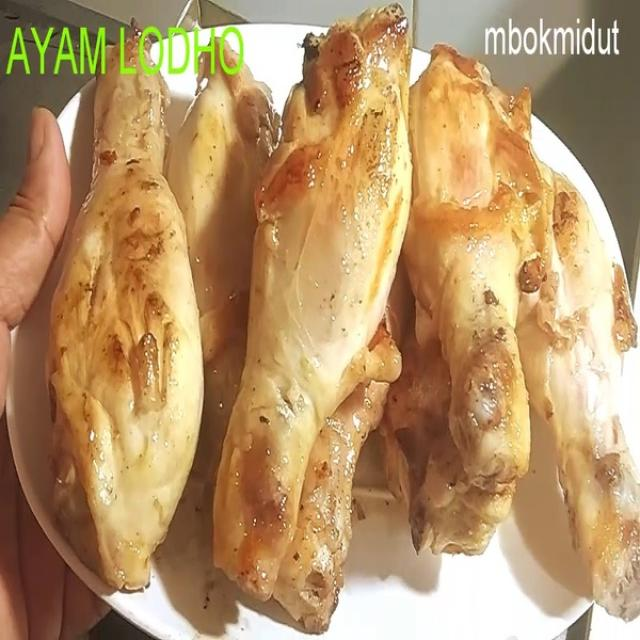CHICKEN FRY: (51, 2, 636, 635)
